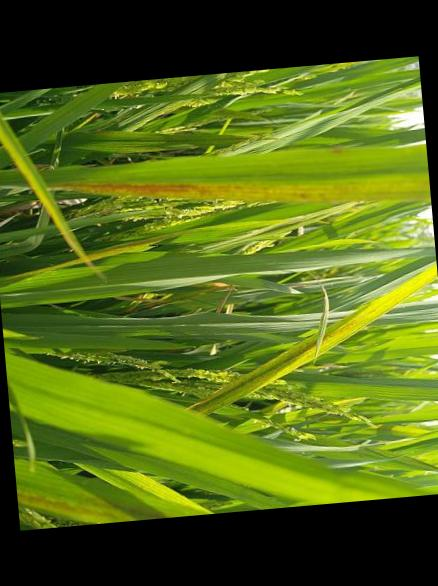Leaf Streak: (190, 260, 437, 412), (0, 116, 84, 262), (66, 174, 430, 204), (14, 459, 136, 524)
